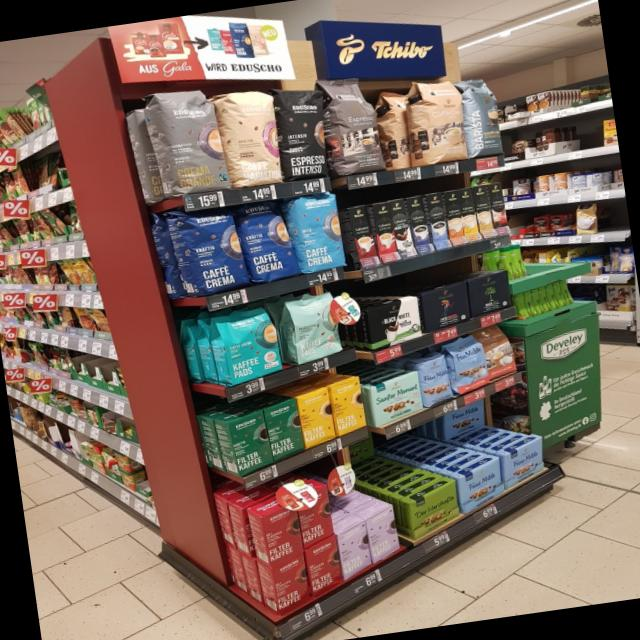BM Gemahlen: (467, 269, 514, 320)
BW Gemahlen: (364, 295, 424, 354)
Barista CC: (452, 73, 508, 161)
CC Mild: (394, 75, 472, 169)
CC Vollmundig: (483, 332, 520, 381)
Espresso Aromatisch: (308, 70, 392, 182)
FM 36 Pads: (445, 340, 493, 398)
FM Bohne: (413, 353, 457, 410)
FM Gemahlen: (456, 455, 506, 515), (500, 436, 545, 490)
Herzhatfe Mundig: (408, 479, 461, 542)
LG Gemahlen: (419, 280, 473, 335)
SM Gemahlen: (368, 369, 426, 429)
Simo CC Colombia: (486, 182, 510, 237)
Simo CCMild bigpack: (459, 186, 482, 243)
Simo CCVollmundig bigpack: (442, 188, 466, 247)
Simo Decaff: (471, 183, 496, 241)
Simo Es Elegant: (371, 200, 400, 265)
Simo Es Kraft: (346, 204, 380, 270)
Simo Kaffee BW: (388, 196, 418, 259)
Simo Kaffee Kraft: (404, 193, 435, 256)
Simo Kaffee Mild: (424, 191, 452, 250)
